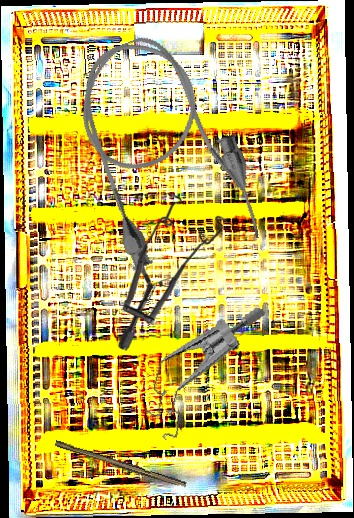Cannula: (56, 18, 273, 284)
Scalpel Handle: (53, 440, 188, 490)
Speculum: (135, 284, 269, 458), (116, 191, 230, 353)
